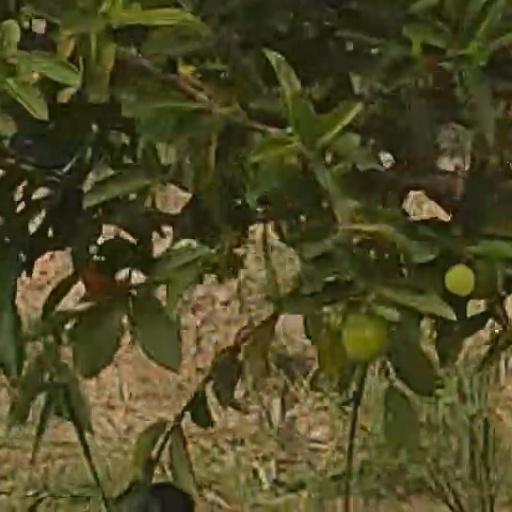acerola_verde: (346, 315, 387, 358), (446, 265, 474, 295)
acerola_vermelha: (86, 269, 108, 297)
